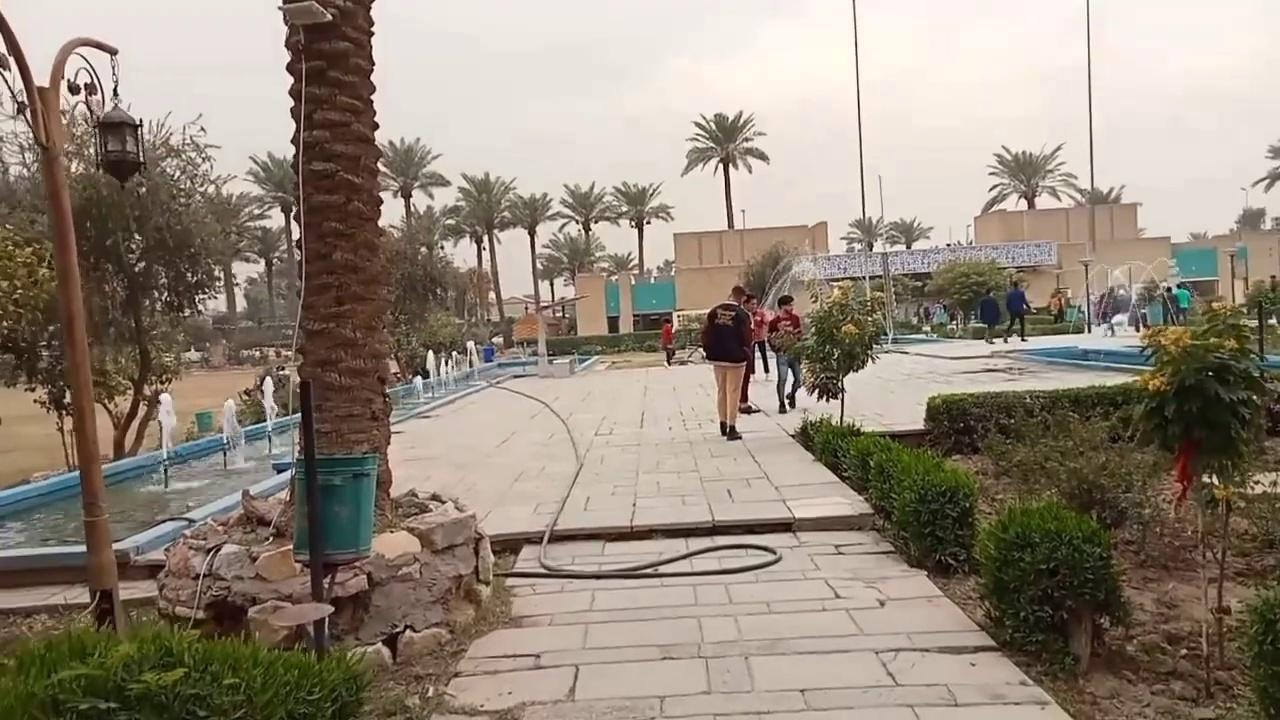fountain: (1, 321, 601, 581), (0, 376, 299, 579), (385, 310, 601, 412), (259, 374, 281, 456)
person: (701, 285, 754, 440), (766, 294, 802, 413), (1003, 280, 1033, 342), (978, 288, 1000, 344), (660, 316, 675, 368), (1174, 281, 1191, 325), (1161, 285, 1177, 326), (1048, 289, 1065, 324), (410, 369, 424, 400)
tree: (1, 107, 267, 467), (1128, 298, 1272, 679), (375, 135, 451, 380), (790, 278, 880, 425), (680, 109, 770, 229), (451, 169, 517, 332), (241, 150, 299, 323), (504, 191, 559, 358), (198, 187, 264, 322), (376, 135, 450, 242), (981, 140, 1081, 212), (606, 179, 674, 276), (397, 201, 456, 309), (440, 203, 491, 323), (923, 256, 1003, 327), (555, 180, 615, 273), (883, 215, 933, 319), (839, 214, 887, 313), (243, 222, 290, 322), (738, 238, 798, 309), (539, 230, 603, 293), (1075, 183, 1125, 253), (600, 250, 639, 332), (839, 214, 886, 252), (883, 215, 933, 249), (1250, 137, 1279, 193), (535, 254, 564, 306), (600, 250, 639, 281), (1080, 184, 1125, 205)
